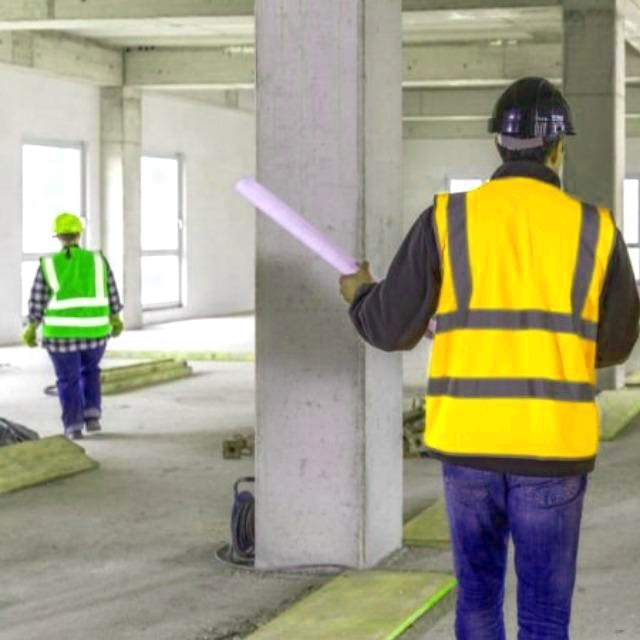Con_Chaleco: (428, 185, 614, 464), (38, 249, 114, 351)
